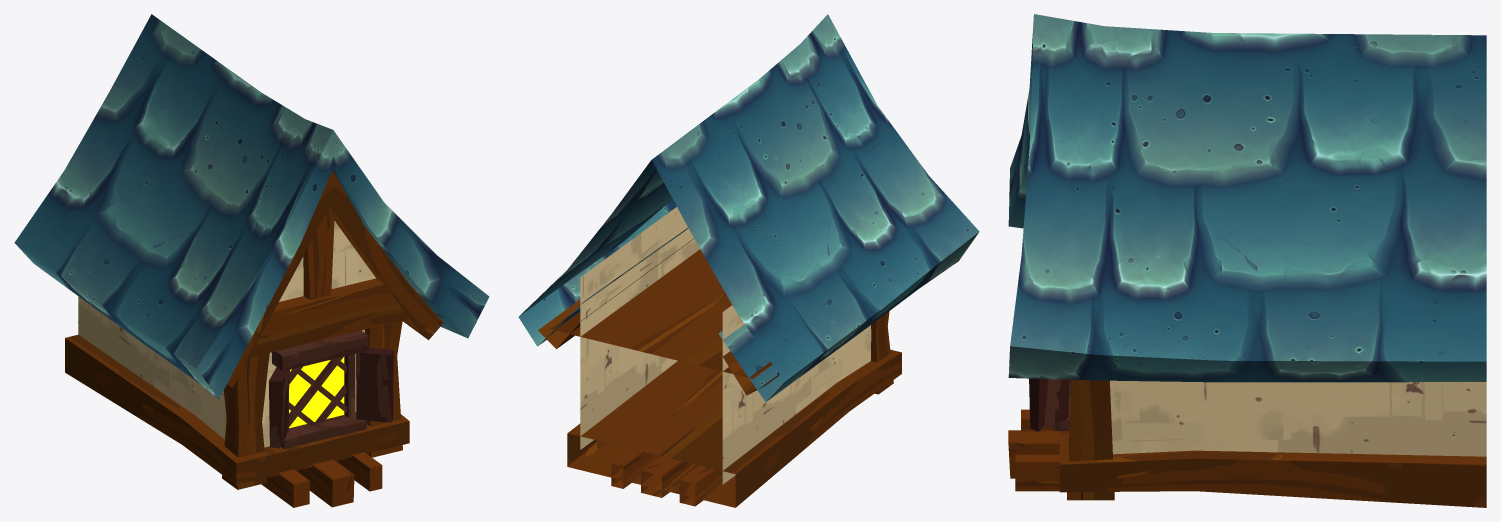
Rendered from SM_BLD_window_v03_01.glb.
3 views of the same model, side by side, from view 1: azimuth 30°, elevation 25°; view 2: azimuth 150°, elevation 25°; view 3: azimuth 270°, elevation 25° (orthographic). The views are drawn at different scales.
Parts seen in each view (by area): view 1: SM_BLD_window_v03_01_EXPORT; view 2: SM_BLD_window_v03_01_EXPORT; view 3: SM_BLD_window_v03_01_EXPORT.
Part boxes in pixels (x1,y1,x2,y2): SM_BLD_window_v03_01_EXPORT: (14, 14, 489, 507); SM_BLD_window_v03_01_EXPORT: (518, 14, 979, 507); SM_BLD_window_v03_01_EXPORT: (1008, 14, 1486, 507).
Bounding box in the file's own units: 3.11 × 3.74 × 3.54.
Materials: 5 (5 with a texture image).
